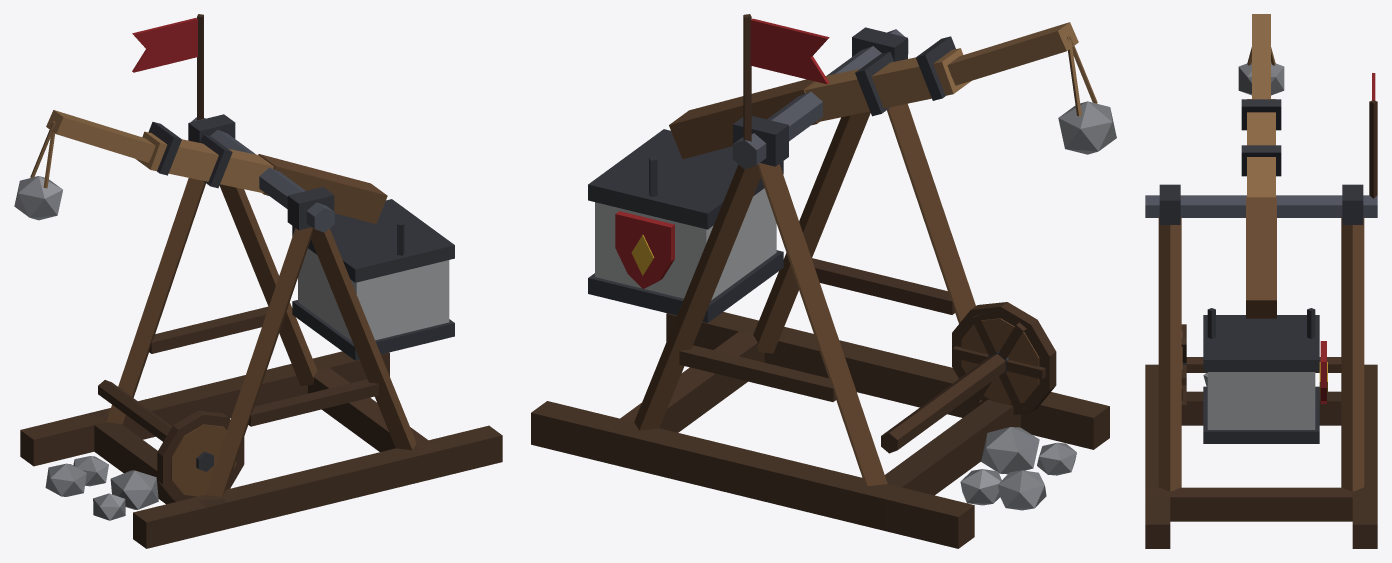
Rendered from Decor_KnightCastle_Trebuchet.fbx.
3 renders of one model, left to right at view 1: azimuth 30°, elevation 25°; view 2: azimuth 150°, elevation 25°; view 3: azimuth 270°, elevation 25°, orthographic. The views are drawn at different scales.
Parts seen in each view (by area): view 1: Trebuchet_Body; view 2: Trebuchet_Body; view 3: Trebuchet_Body.
Boxes of the visible parts, x1,y1,x2,y2 form: Trebuchet_Body: [14, 14, 502, 548]; Trebuchet_Body: [531, 14, 1116, 548]; Trebuchet_Body: [1145, 14, 1377, 548].
Size of the model in its own units: 23.13 by 21.15 by 12.
